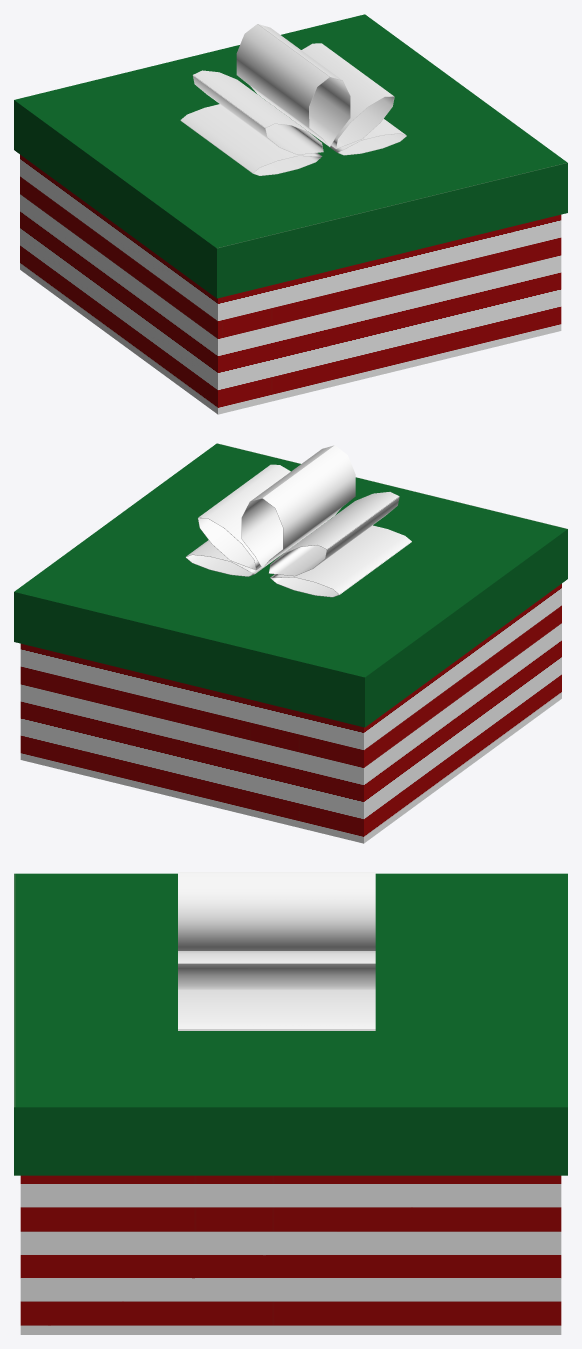
Rendered from present_skinny_striped_ver2.fbx.
3 views of the same model, one above another, from view 1: azimuth 30°, elevation 25°; view 2: azimuth 150°, elevation 25°; view 3: azimuth 270°, elevation 25° (orthographic). The views are drawn at different scales.
Parts seen in each view (by area): view 1: Top, Box; view 2: Top, Box; view 3: Top, Box.
Part boxes in pixels (<box>): Top: <box>14,14,567,298</box>; Box: <box>20,154,561,414</box>; Top: <box>14,443,567,727</box>; Box: <box>20,583,561,843</box>; Top: <box>14,872,567,1175</box>; Box: <box>20,1175,561,1334</box>.
Size of the model in its own units: 16.76 by 11.6 by 16.78.
